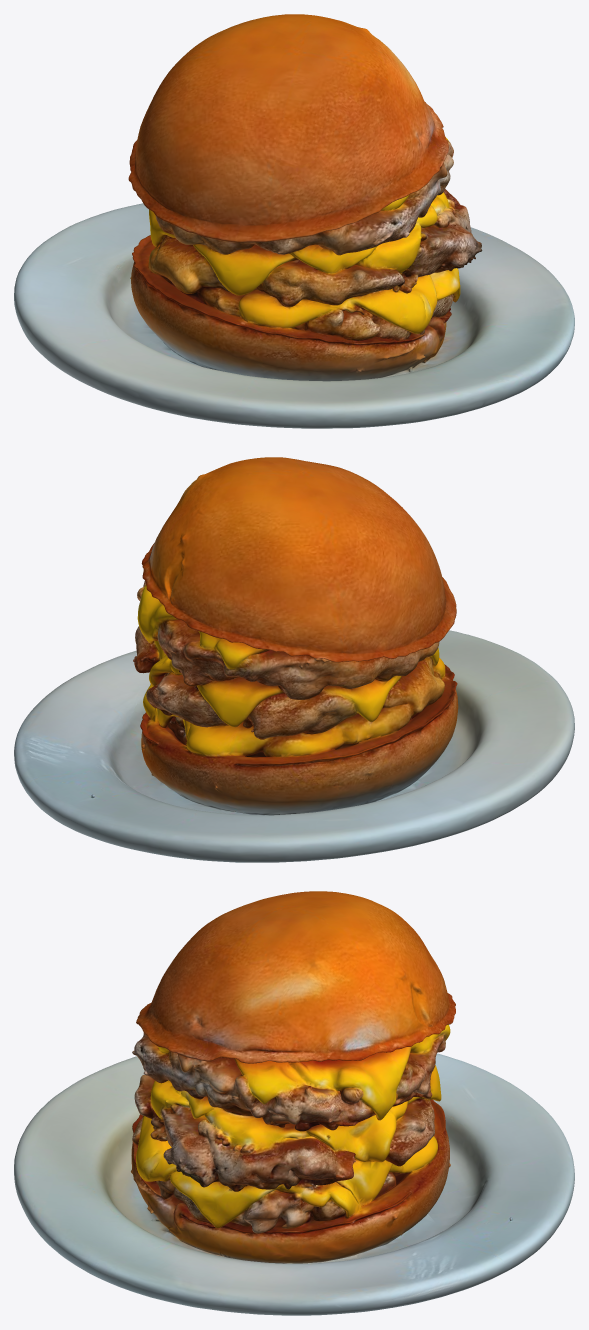
The model's file is cheeseburger-cheddar.glb.
The picture shows the model from 3 angles, top to bottom: view 1: azimuth 30°, elevation 25°; view 2: azimuth 150°, elevation 25°; view 3: azimuth 270°, elevation 25°; orthographic projection.
Parts seen in each view (by area): view 1: tripo_node_f2fe2b96-2e2a-4862-8aaa-9764e6d02a04; view 2: tripo_node_f2fe2b96-2e2a-4862-8aaa-9764e6d02a04; view 3: tripo_node_f2fe2b96-2e2a-4862-8aaa-9764e6d02a04.
Boxes of the visible parts, x1=… form: tripo_node_f2fe2b96-2e2a-4862-8aaa-9764e6d02a04: x1=14, y1=14, x2=574, y2=428; tripo_node_f2fe2b96-2e2a-4862-8aaa-9764e6d02a04: x1=14, y1=457, x2=574, y2=862; tripo_node_f2fe2b96-2e2a-4862-8aaa-9764e6d02a04: x1=14, y1=891, x2=574, y2=1315.
Bounding box in the file's own units: 0.1998 × 0.1192 × 0.2.
Materials: 1 (1 with a texture image).
